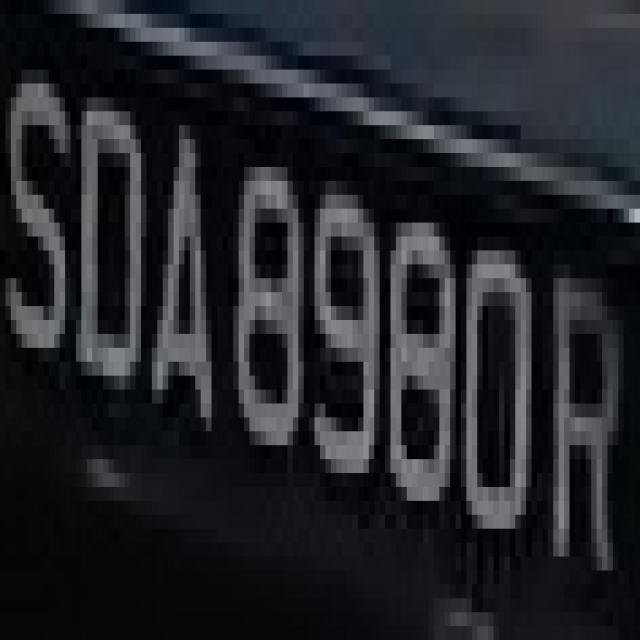0: (434, 237, 531, 570)
8: (217, 111, 309, 473), (374, 181, 466, 542)
9: (287, 181, 396, 487)
A: (152, 125, 222, 529)
D: (76, 42, 152, 473)
R: (537, 292, 635, 626)
S: (16, 42, 76, 431)
